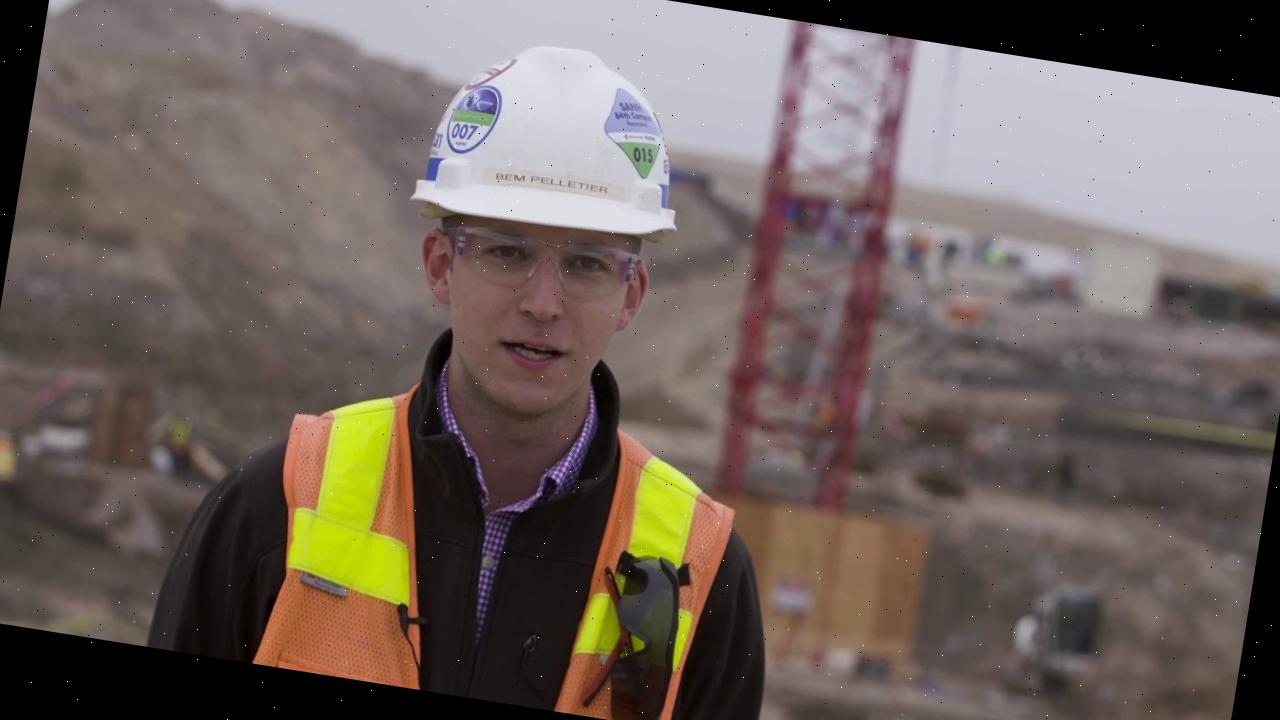helmet: (403, 26, 702, 264)
wear: (140, 386, 759, 720)
